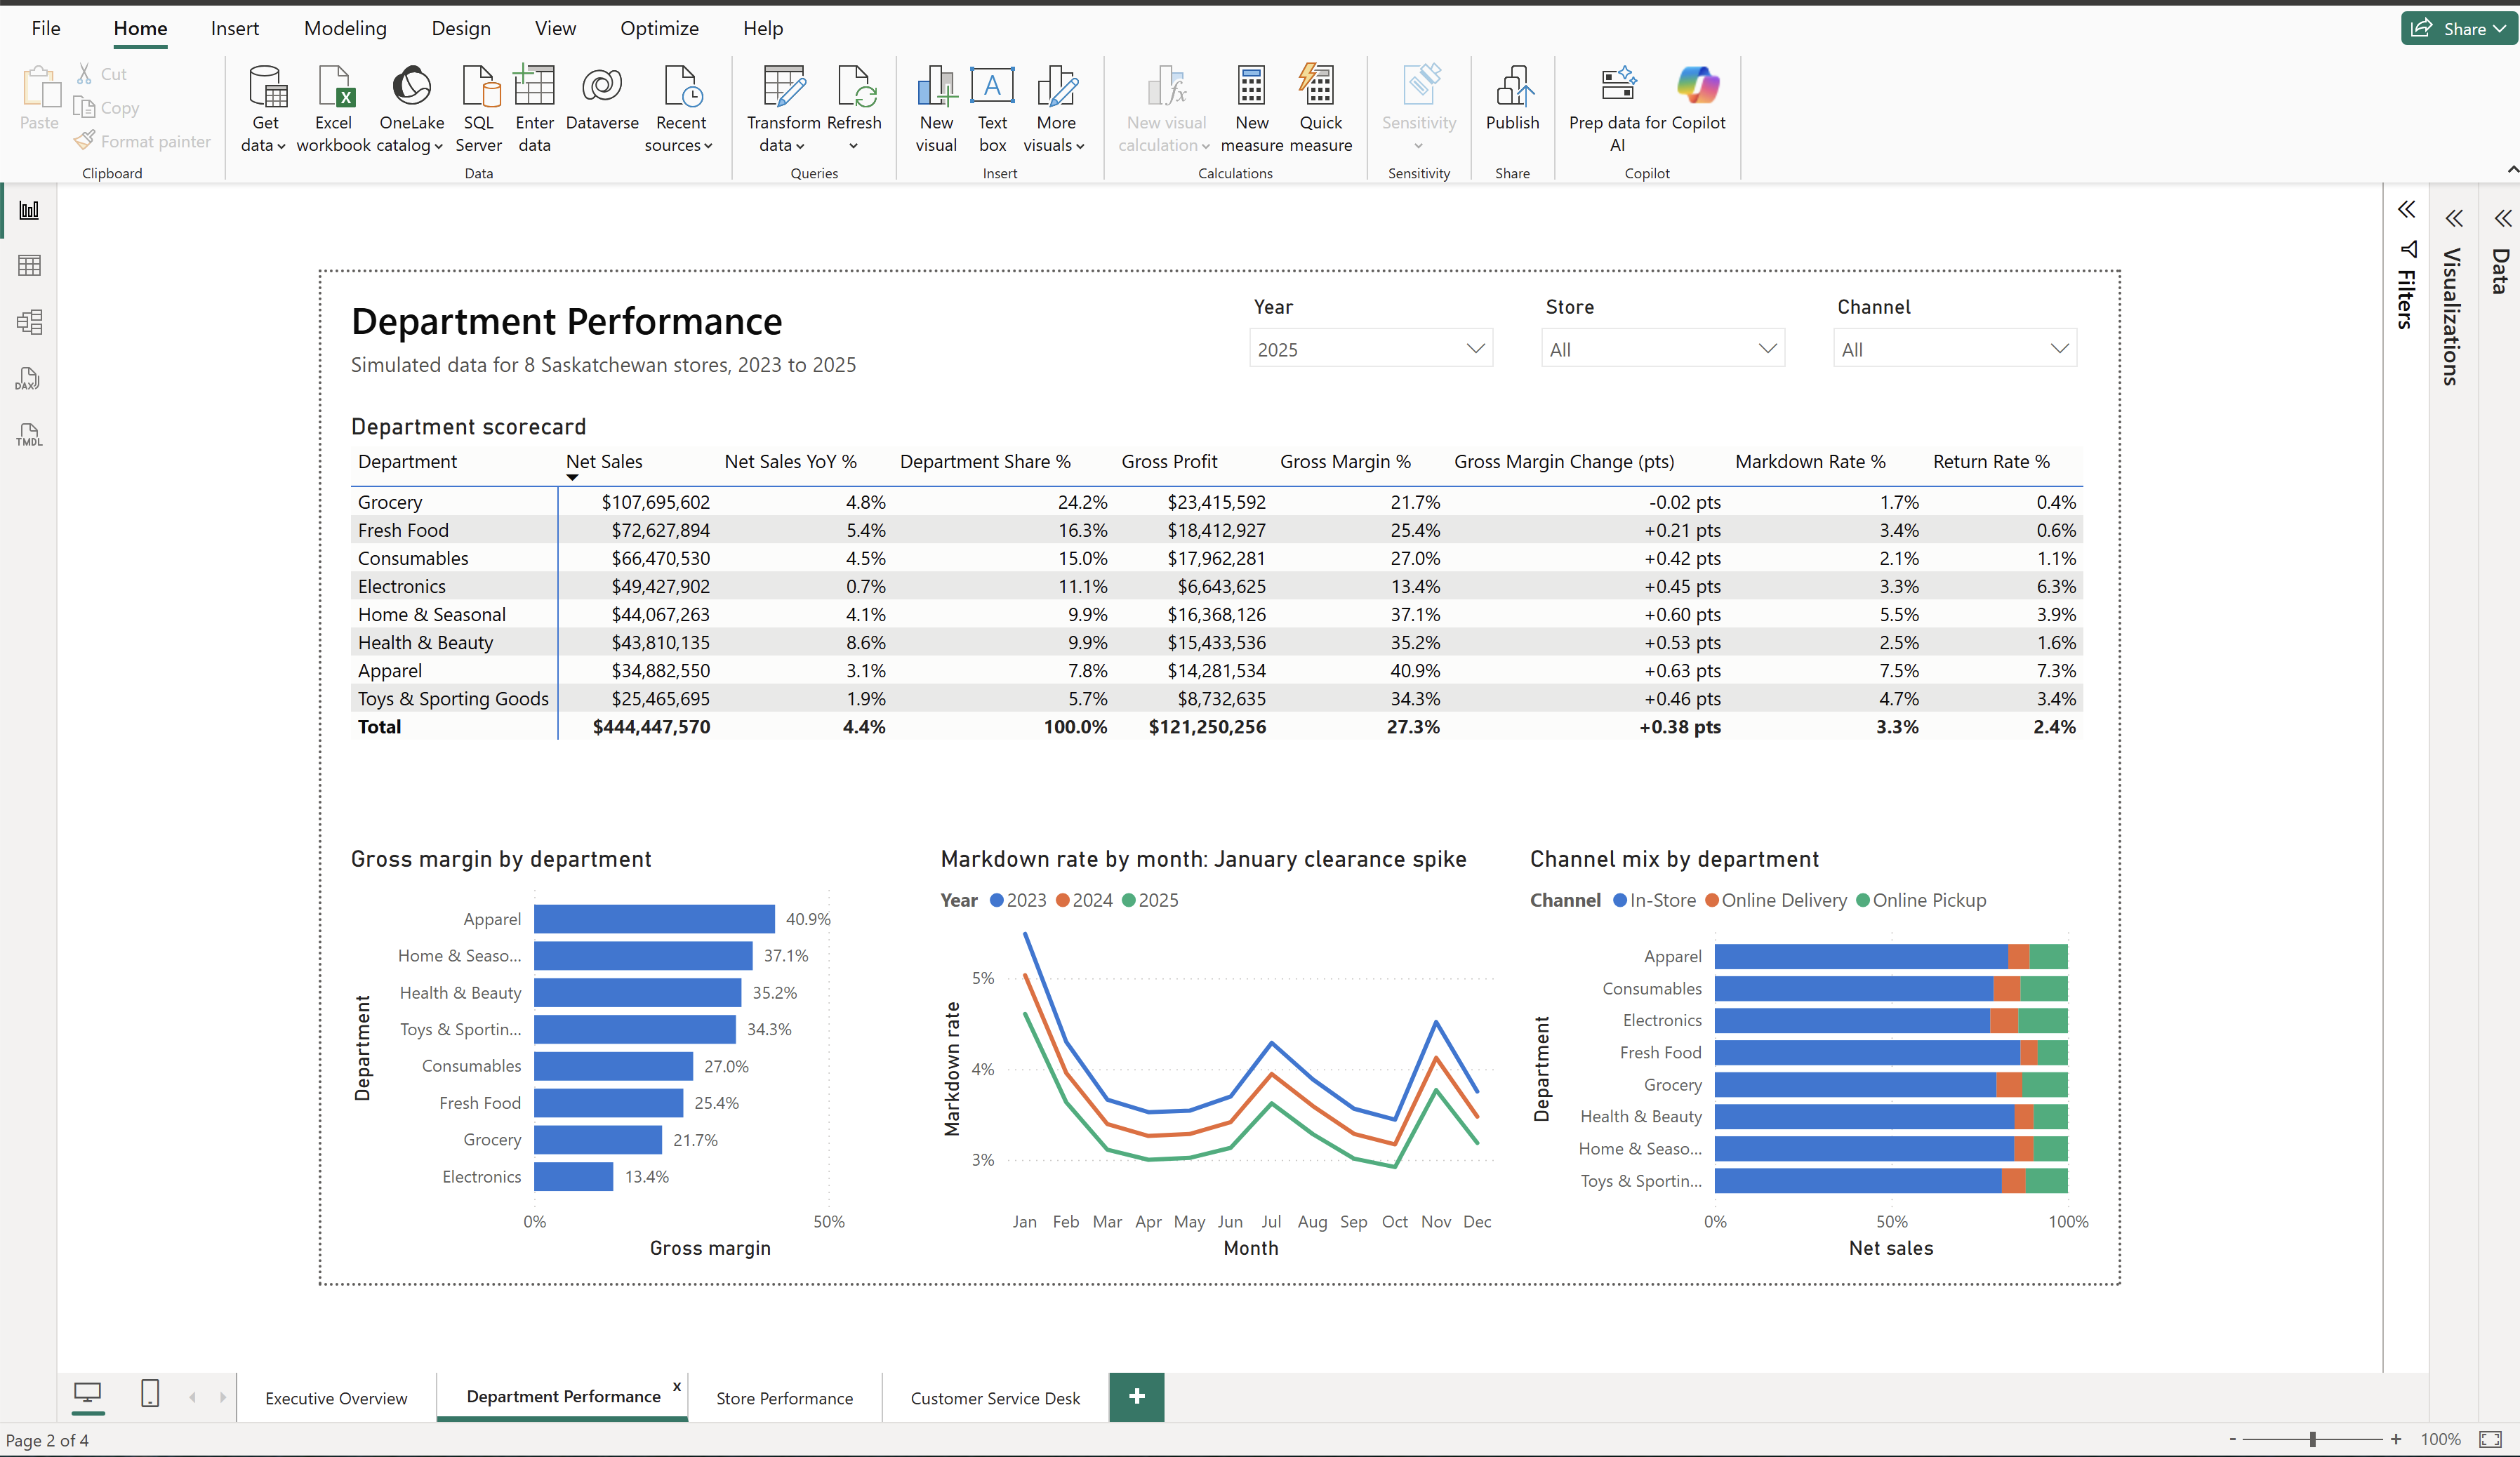

The dashboard page shown, as its layout file describes it:
{"tool":"powerbi","page":{"name":"Department Performance","canvas":[1280,720],"ordinal":1},"visuals":[{"type":"textbox","box":[16.3,10.3,600,49.7],"z":1000},{"type":"textbox","box":[16.3,49.7,600,37.7],"z":2000},{"type":"slicer","fields":{"Values":["dim_date.year"]},"box":[648,8,200,80],"z":3000},{"type":"slicer","fields":{"Values":["dim_store.store_name"]},"box":[856,8,200,80],"z":4000},{"type":"slicer","fields":{"Values":["dim_channel.channel_name"]},"box":[1064,8,200,80],"z":5000},{"type":"pivotTable","title":"Department scorecard","fields":{"Rows":["dim_department.department_name"],"Values":["_Measures.Net Sales","_Measures.Net Sales YoY %","_Measures.Department Share %","_Measures.Gross Profit","_Measures.Gross Margin %","_Measures.Gross Margin Change (pts)","_Measures.Markdown Rate %","_Measures.Return Rate %"]},"box":[16,100,1248,296],"z":6000},{"type":"clusteredBarChart","title":"Gross margin by department","fields":{"Category":["dim_department.department_name"],"Y":["_Measures.Gross Margin %"]},"box":[16,408,404,300],"z":7000},{"type":"lineChart","title":"Markdown rate by month: January clearance spike","fields":{"Category":["dim_date.month_name"],"Series":["dim_date.year"],"Y":["_Measures.Markdown Rate %"]},"box":[436,408,404,300],"z":8000},{"type":"hundredPercentStackedBarChart","title":"Channel mix by department","fields":{"Category":["dim_department.department_name"],"Y":["_Measures.Net Sales"],"Series":["dim_channel.channel_name"]},"box":[856,408,408,300],"z":9000}]}

Visuals, with their boxes on the page's 1280x720 design canvas (x1, y1, x2, y2). These are canvas units, not pixel positions in the 2520x1457 screenshot, which may show the page scaled, cropped or inside an application window:
textbox: x1=16, y1=10, x2=616, y2=60
textbox: x1=16, y1=50, x2=616, y2=87
slicer - dim_date.year: x1=648, y1=8, x2=848, y2=88
slicer - dim_store.store_name: x1=856, y1=8, x2=1056, y2=88
slicer - dim_channel.channel_name: x1=1064, y1=8, x2=1264, y2=88
"Department scorecard" pivotTable: x1=16, y1=100, x2=1264, y2=396
"Gross margin by department" clusteredBarChart: x1=16, y1=408, x2=420, y2=708
"Markdown rate by month: January clearance spike" lineChart: x1=436, y1=408, x2=840, y2=708
"Channel mix by department" hundredPercentStackedBarChart: x1=856, y1=408, x2=1264, y2=708
